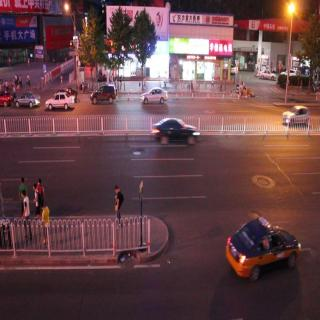Car: (223, 216, 303, 280), (150, 118, 201, 152), (43, 91, 76, 114), (90, 84, 118, 108), (283, 105, 310, 127), (140, 86, 168, 106), (16, 91, 41, 110)
